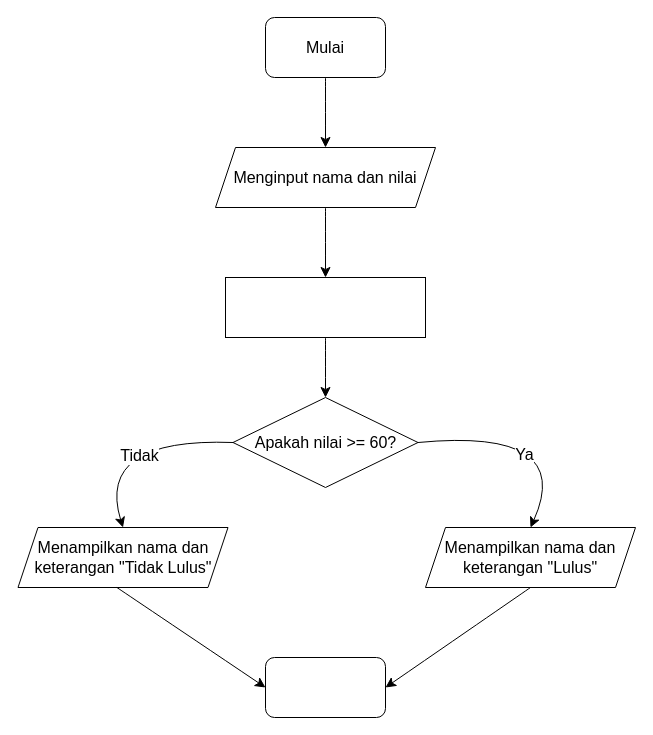
Image size: 653x735. Some labels were removed from this diagram. Here are the shapes that lost their labels. From the top down, the centre of each, then its label:
point 325,307: Proses Validasi Kelulusan
point 325,687: Selesai
